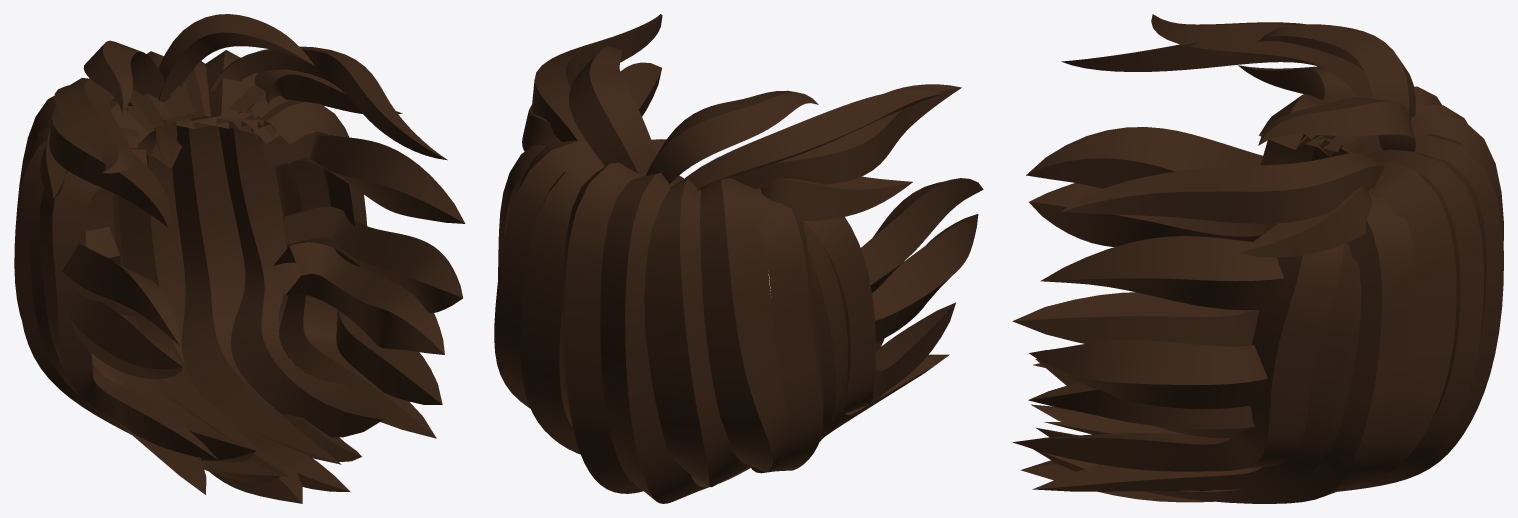
Rendered from Body_011.fbx.
3 views of the same model, side by side, from view 1: azimuth 30°, elevation 25°; view 2: azimuth 150°, elevation 25°; view 3: azimuth 270°, elevation 25° (orthographic). The views are drawn at different scales.
Visible parts, largest first — view 1: Body.011; view 2: Body.011; view 3: Body.011.
Boxes of the visible parts, x1,y1,x2,y2 form: Body.011: (14,14,465,503); Body.011: (494,14,983,503); Body.011: (1012,14,1503,503).
Size of the model in its own units: 110 by 115 by 122.
